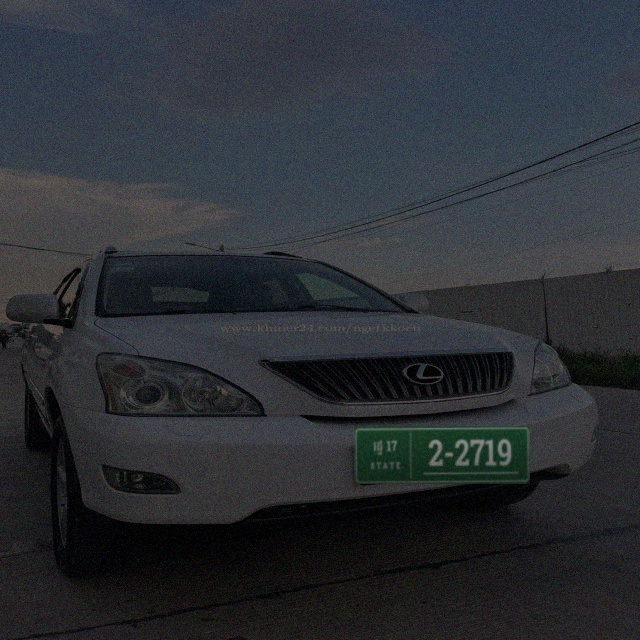Plate Number: (354, 426, 531, 484)
